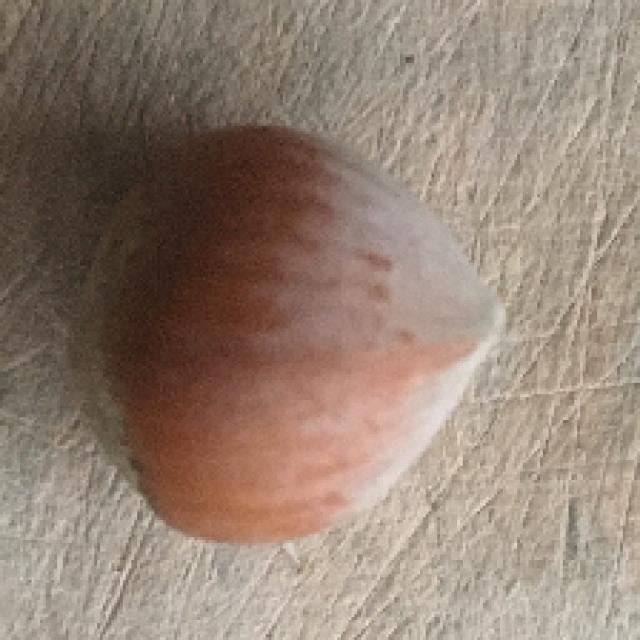qualityHazelnut: (66, 117, 513, 555)
